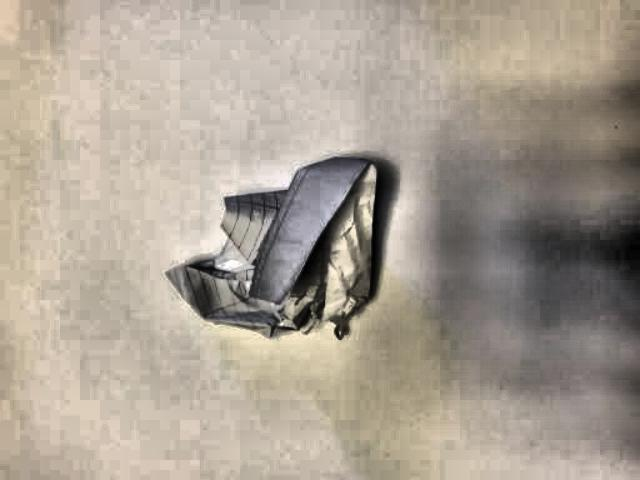Paper: (169, 156, 381, 345)
